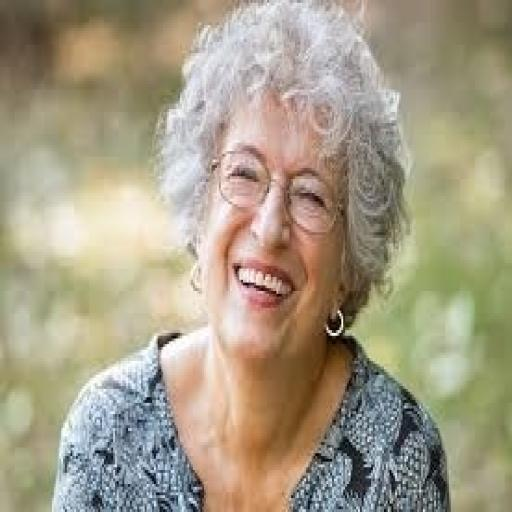laughing: (48, 0, 456, 506)
